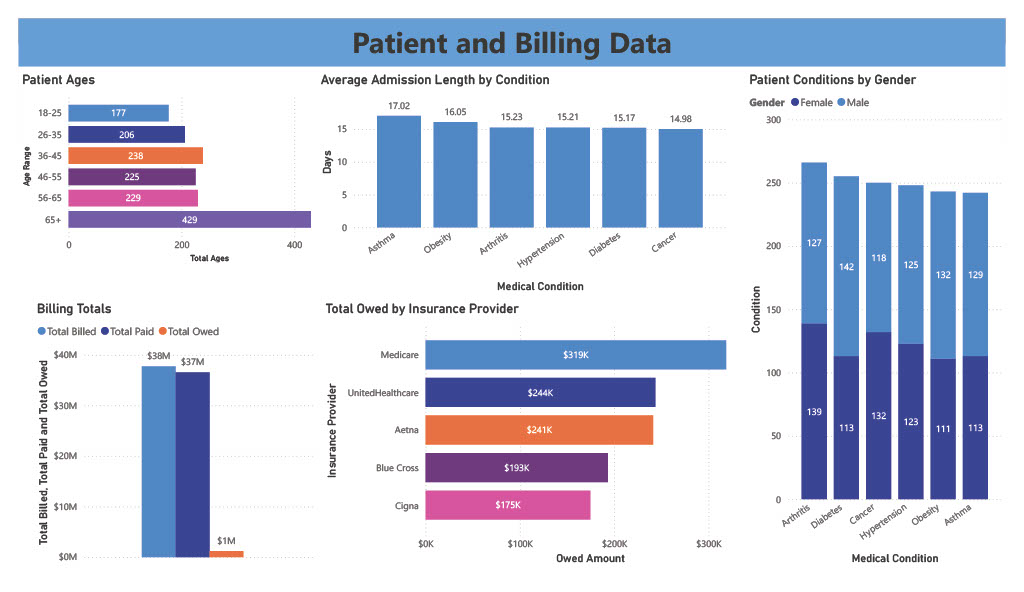

The dashboard page shown, as its layout file describes it:
{"tool":"powerbi","page":{"name":"Page 1","canvas":[1280,720],"ordinal":0},"visuals":[{"type":"barChart","title":"Patient Ages","fields":{"Category":["healthcare_dataset.Age Range"],"Y":["CountNonNull(healthcare_dataset.Age Range)"],"Series":["healthcare_dataset.Age Range"]},"box":[0,68.7,446.3,252.6],"z":0},{"type":"barChart","title":"Total Owed by Insurance Provider","fields":{"Category":["healthcare_dataset.Insurance Provider"],"Y":["healthcare_dataset.Owed Amount"],"Series":["healthcare_dataset.Insurance Provider"]},"box":[393.3,365.8,585,347.5],"z":1000},{"type":"clusteredColumnChart","title":"Billing Totals","fields":{"Y":["Sum(healthcare_dataset.Billing Amount)","Sum(healthcare_dataset.Paid Amount)","healthcare_dataset.Owed Amount"]},"box":[19,365.8,368.4,347.5],"z":2000},{"type":"columnChart","title":"Patient Conditions by Gender","fields":{"Category":["healthcare_dataset.Medical Condition"],"Y":["CountNonNull(healthcare_dataset.Medical Condition)"],"Series":["healthcare_dataset.Gender"]},"box":[943,68.7,337,644.6],"z":3000},{"type":"clusteredColumnChart","title":"Average Admission Length by Condition","fields":{"Category":["healthcare_dataset.Medical Condition"],"Y":["Avg(healthcare_dataset.Length of Admission)"]},"box":[387.4,68.7,535.3,291.2],"z":4000},{"type":"textbox","box":[0,0,1280,61.5],"z":5000}]}

Visuals, with their boxes in screenshot pixels (x1, y1, x2, y2), scaled from the page's 1280x720 canvas onto the 1024x592 screenshot:
"Patient Ages" barChart: x1=0 y1=56 x2=357 y2=264
"Total Owed by Insurance Provider" barChart: x1=315 y1=301 x2=783 y2=586
"Billing Totals" clusteredColumnChart: x1=15 y1=301 x2=310 y2=586
"Patient Conditions by Gender" columnChart: x1=754 y1=56 x2=1023 y2=586
"Average Admission Length by Condition" clusteredColumnChart: x1=310 y1=56 x2=738 y2=296
textbox: x1=0 y1=0 x2=1023 y2=51
